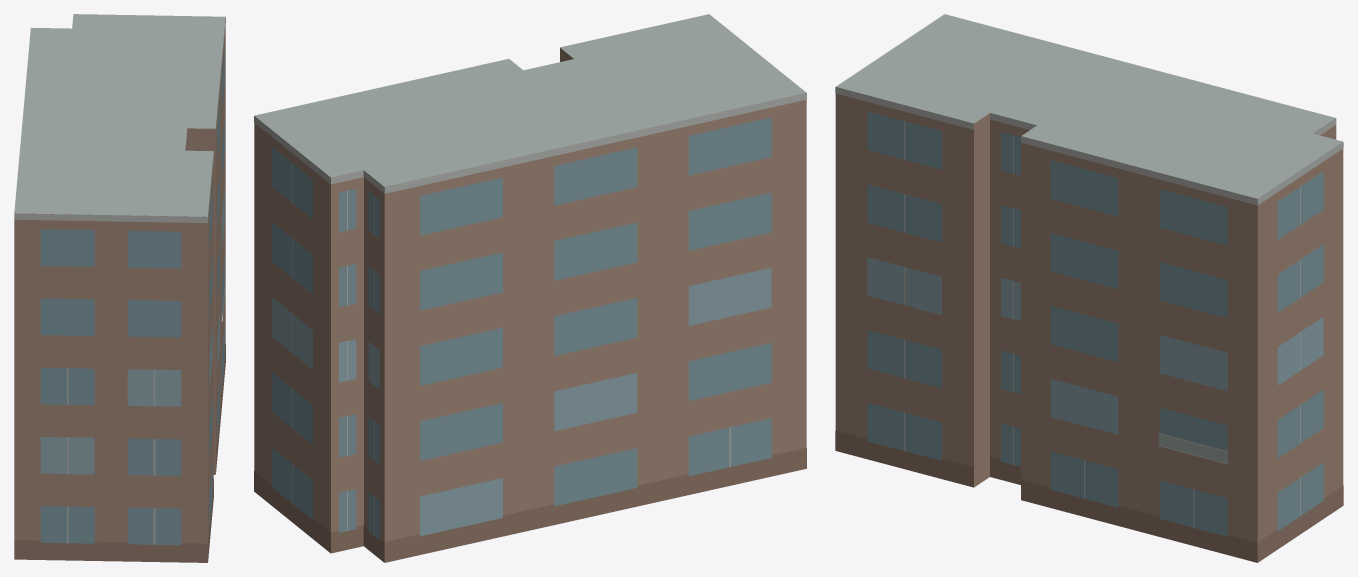
Rendered from survey-upis-32788657.glb.
The picture shows the model from 3 angles, left to right: view 1: azimuth 30°, elevation 25°; view 2: azimuth 150°, elevation 25°; view 3: azimuth 270°, elevation 25°; orthographic projection. The views are drawn at different scales.
Parts seen in each view (by area): view 1: survey-upis-32788657.tmp; view 2: survey-upis-32788657.tmp; view 3: survey-upis-32788657.tmp.
Part boxes in pixels (x1,y1,x2,y2): survey-upis-32788657.tmp: [14, 14, 225, 562]; survey-upis-32788657.tmp: [254, 14, 806, 562]; survey-upis-32788657.tmp: [835, 14, 1343, 562].
Bounding box in the file's own units: 14.6 × 13.4 × 16.95.
